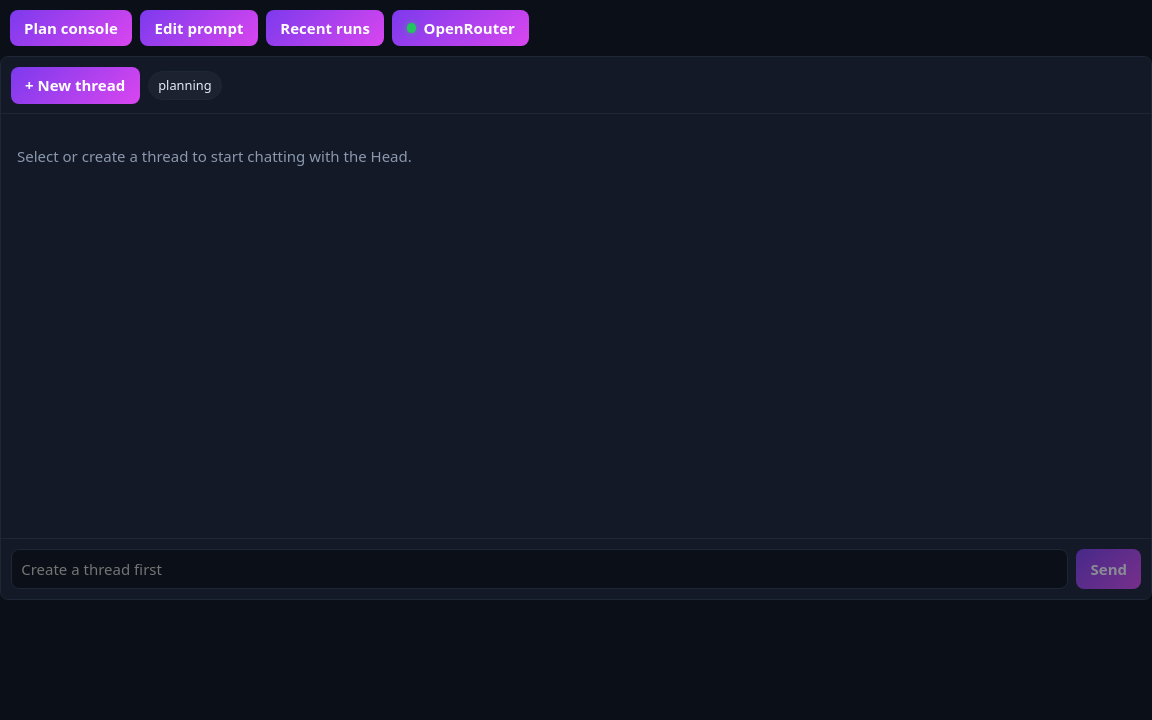
Test case: HeadHQ › renders a chat thread list for the head agent
Click the button "planning" at [185, 85], box [148,70,222,100]
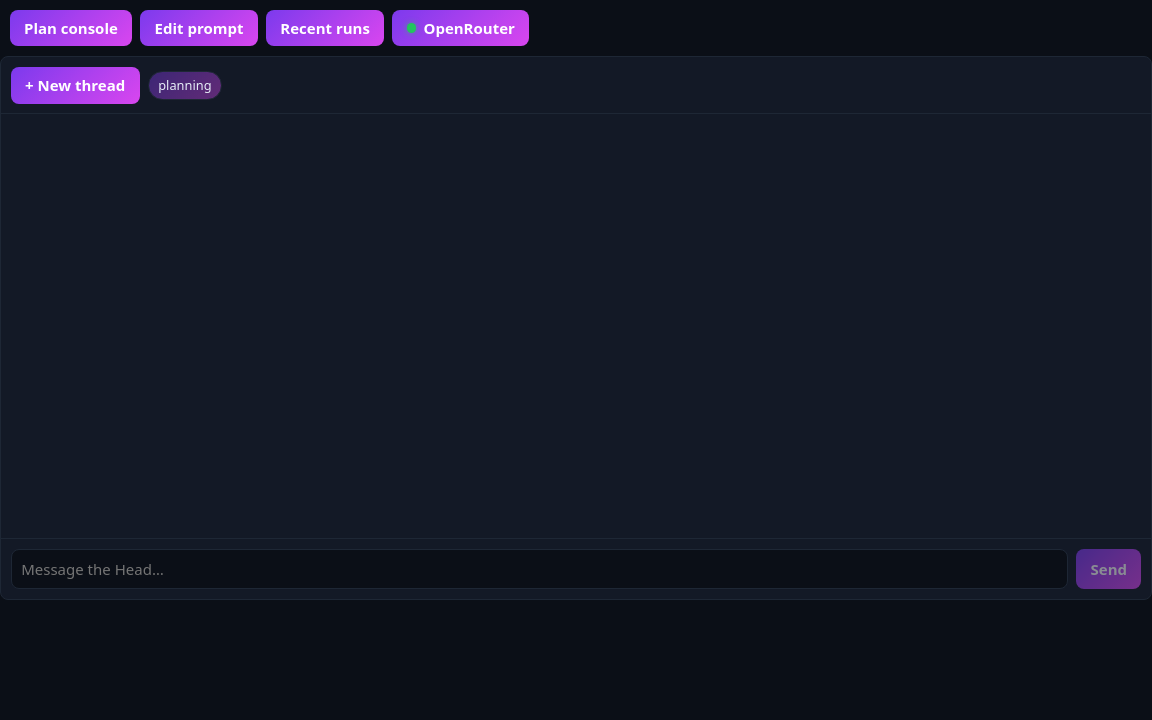
Expected: the field with placeholder "Message the Head…" is shown, [11,549,1068,589]
